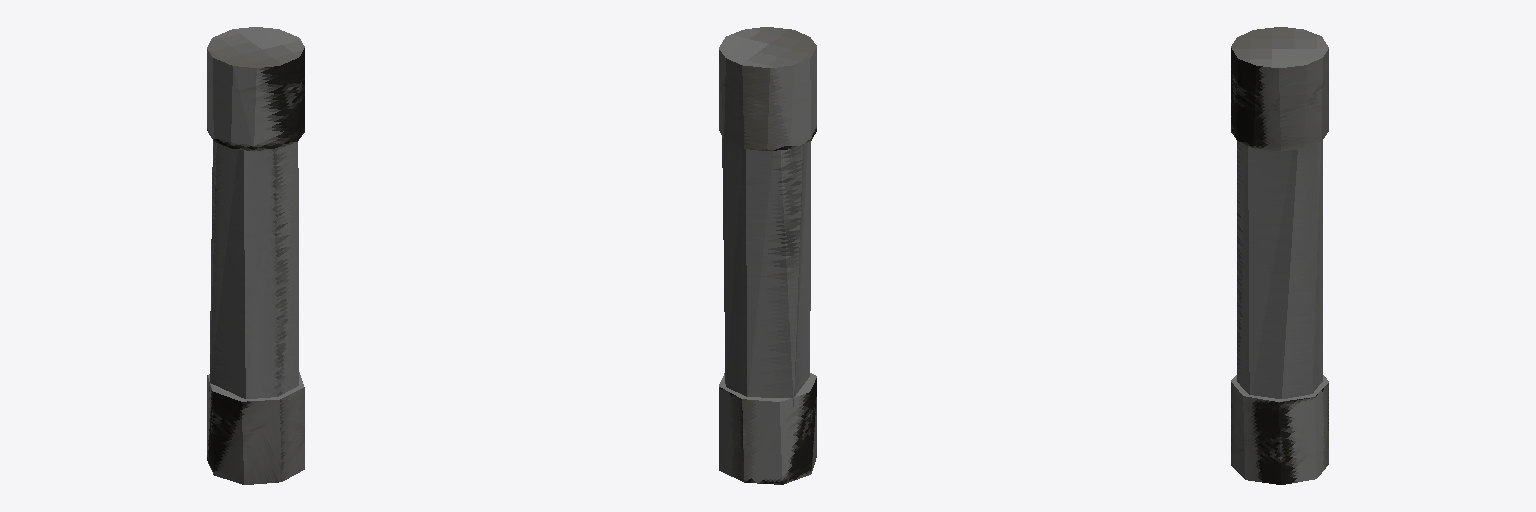
The picture shows the model from 3 angles: view 1: azimuth 30°, elevation 25°; view 2: azimuth 150°, elevation 25°; view 3: azimuth 270°, elevation 25°; orthographic projection.
Parts seen in each view (by area): view 1: Cylinder.002, Cylinder.001, Cylinder; view 2: Cylinder.002, Cylinder.001, Cylinder; view 3: Cylinder.002, Cylinder.001, Cylinder.
Boxes of the visible parts, x1=… form: Cylinder.002: x1=209, y1=141, x2=298, y2=398; Cylinder.001: x1=207, y1=27, x2=304, y2=151; Cylinder: x1=207, y1=372, x2=304, y2=484; Cylinder.002: x1=722, y1=137, x2=810, y2=406; Cylinder.001: x1=719, y1=27, x2=816, y2=150; Cylinder: x1=719, y1=373, x2=816, y2=484; Cylinder.002: x1=1237, y1=141, x2=1322, y2=398; Cylinder.001: x1=1231, y1=27, x2=1328, y2=151; Cylinder: x1=1231, y1=375, x2=1328, y2=484.
Size of the model in its own units: 0.5368 by 2.5 by 0.5368.
Materials: 2 (1 with a texture image).